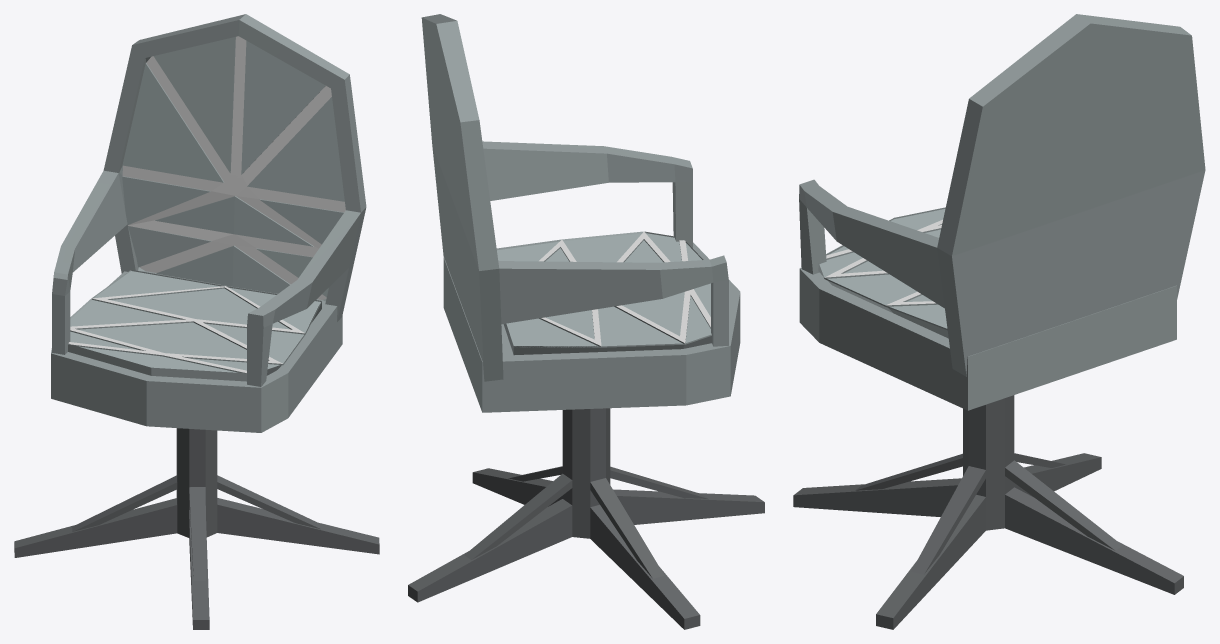
File: Chair-3.fbx
3 renders of one model, left to right at view 1: azimuth 30°, elevation 25°; view 2: azimuth 150°, elevation 25°; view 3: azimuth 270°, elevation 25°, orthographic. The views are drawn at different scales.
Visible parts, largest first — view 1: Chair-2; view 2: Chair-2; view 3: Chair-2.
Boxes of the visible parts, x1,y1,x2,y2 form: Chair-2: [14, 14, 379, 629]; Chair-2: [408, 14, 764, 629]; Chair-2: [793, 14, 1205, 629].
Size of the model in its own units: 0.9059 by 1.42 by 0.9172.
